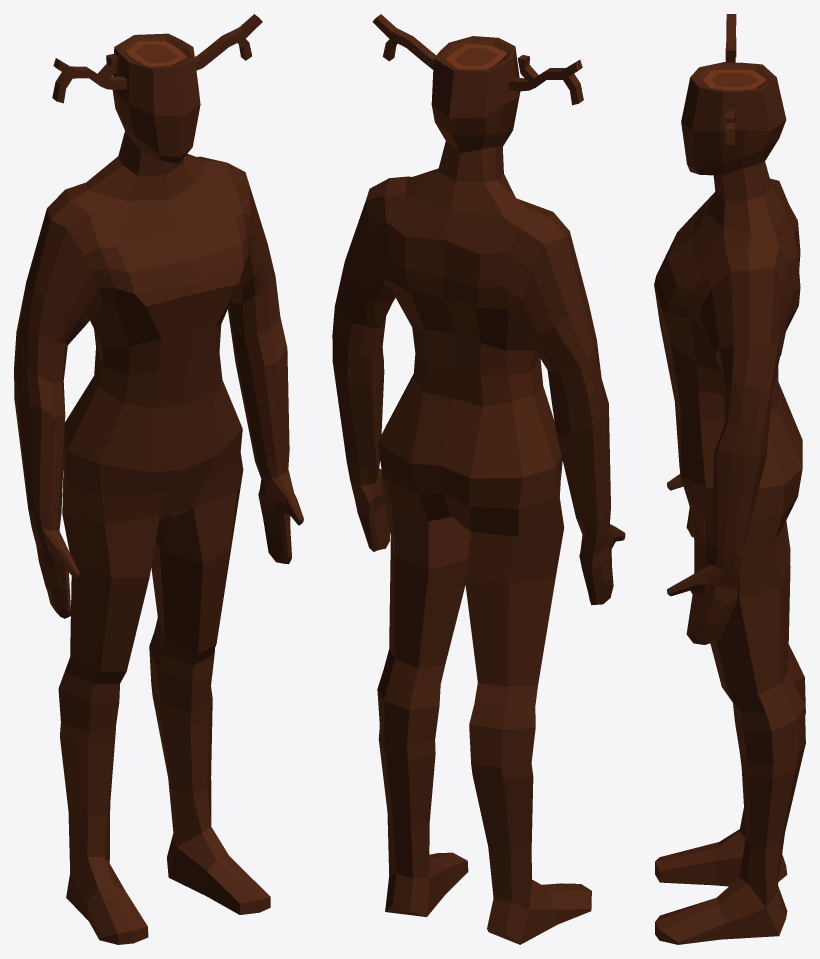
File: character_templet.fbx
The picture shows the model from 3 angles, left to right: view 1: azimuth 30°, elevation 25°; view 2: azimuth 150°, elevation 25°; view 3: azimuth 270°, elevation 25°; orthographic projection. The views are drawn at different scales.
Parts seen in each view (by area): view 1: Circle.001, Cube.001, Cube, Circle.002; view 2: Circle.001, Cube.001, Cube, Circle.002; view 3: Circle.001, Circle.002, Circle.003, Cube.001, Cube.
Boxes of the visible parts, x1,y1,x2,y2 form: Circle.001: (14,33,303,944); Cube.001: (52,54,127,103); Cube: (195,14,262,70); Circle.002: (126,41,187,66); Circle.001: (332,36,625,944); Cube.001: (508,55,583,105); Cube: (372,14,435,69); Circle.002: (445,43,507,69); Circle.001: (654,62,805,944); Circle.002: (703,69,766,90); Circle.003: (712,73,757,86); Cube.001: (725,14,736,62); Cube: (725,109,735,144).
Size of the model in its own units: 205 by 649 by 106.
